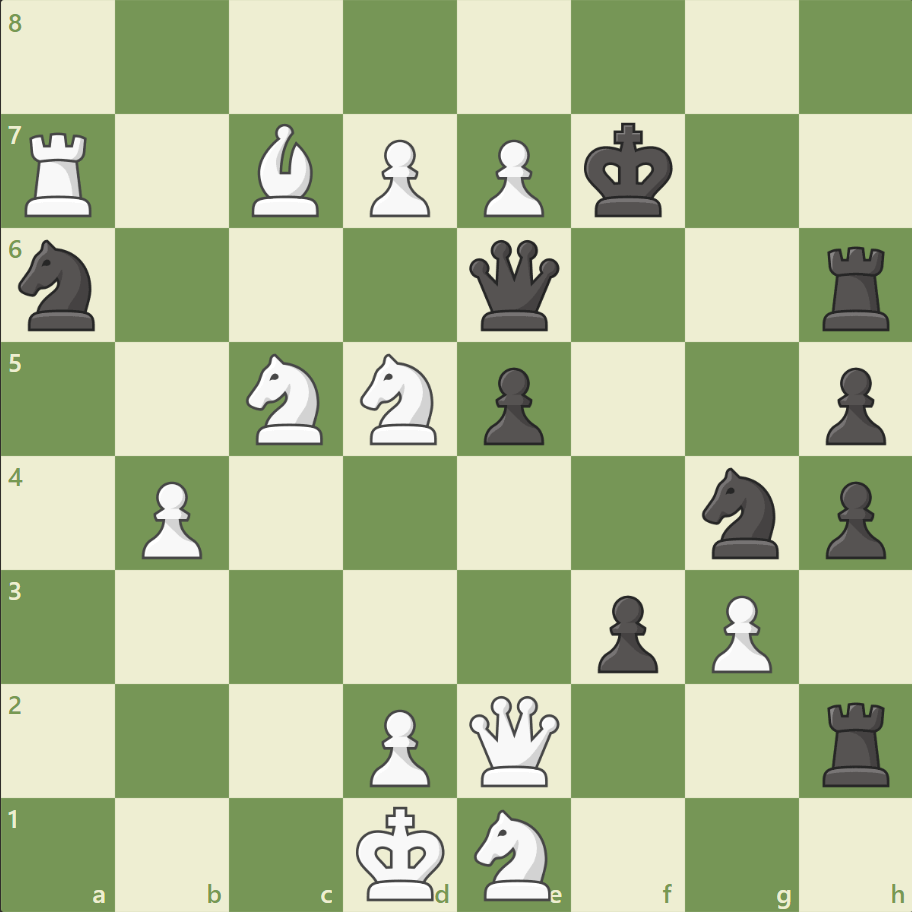B: (244, 120, 328, 222)
K: (351, 798, 451, 906)
N: (351, 348, 449, 450), (238, 348, 335, 450), (465, 802, 562, 904)
P: (474, 132, 549, 223), (133, 473, 208, 564), (701, 586, 776, 677), (361, 132, 435, 223), (361, 700, 435, 791)
Q: (464, 690, 563, 789)
R: (19, 125, 102, 222)
k: (579, 117, 679, 225)
n: (11, 234, 108, 337), (692, 461, 789, 564)
p: (474, 359, 549, 450), (815, 359, 889, 450), (815, 473, 889, 564), (588, 586, 662, 677)
q: (464, 236, 563, 335)
r: (814, 239, 897, 336), (814, 693, 897, 790)
